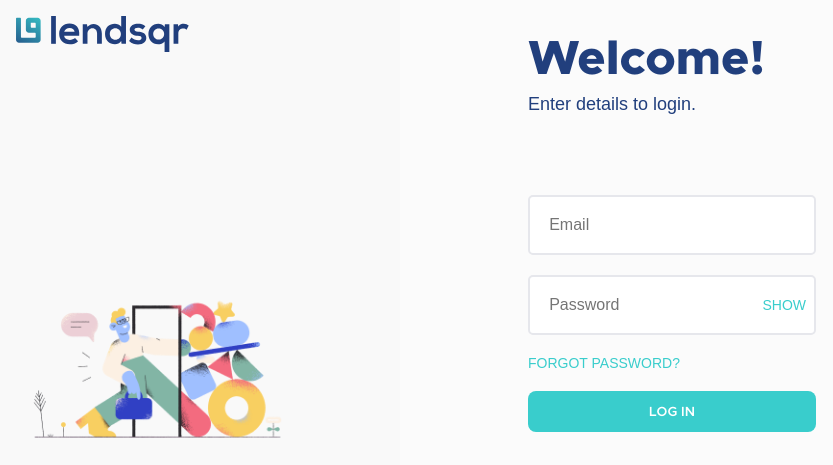
Test: Unit tests › should display error propmt when user try to Login without filling details
Click the button with test id "formSubmit". click: (672,412)
box: [528,391,816,432]
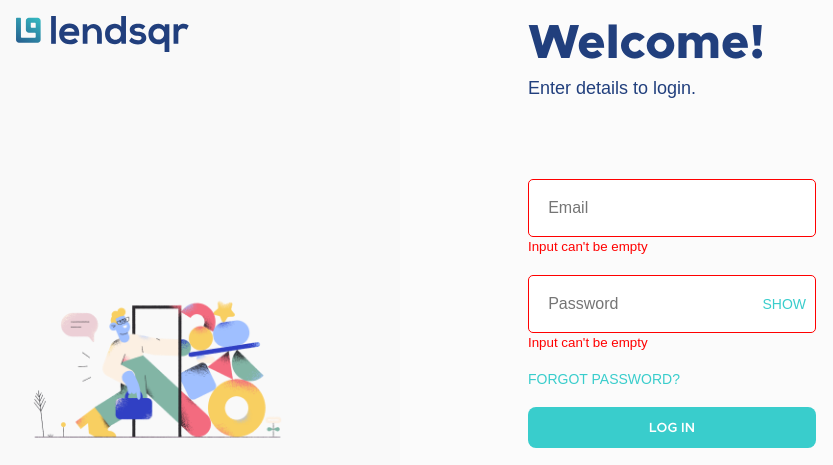
Check: the number of elements with test id "loginErrorPrompt" is 2, box [528,239,648,254]; [528,335,648,350]
